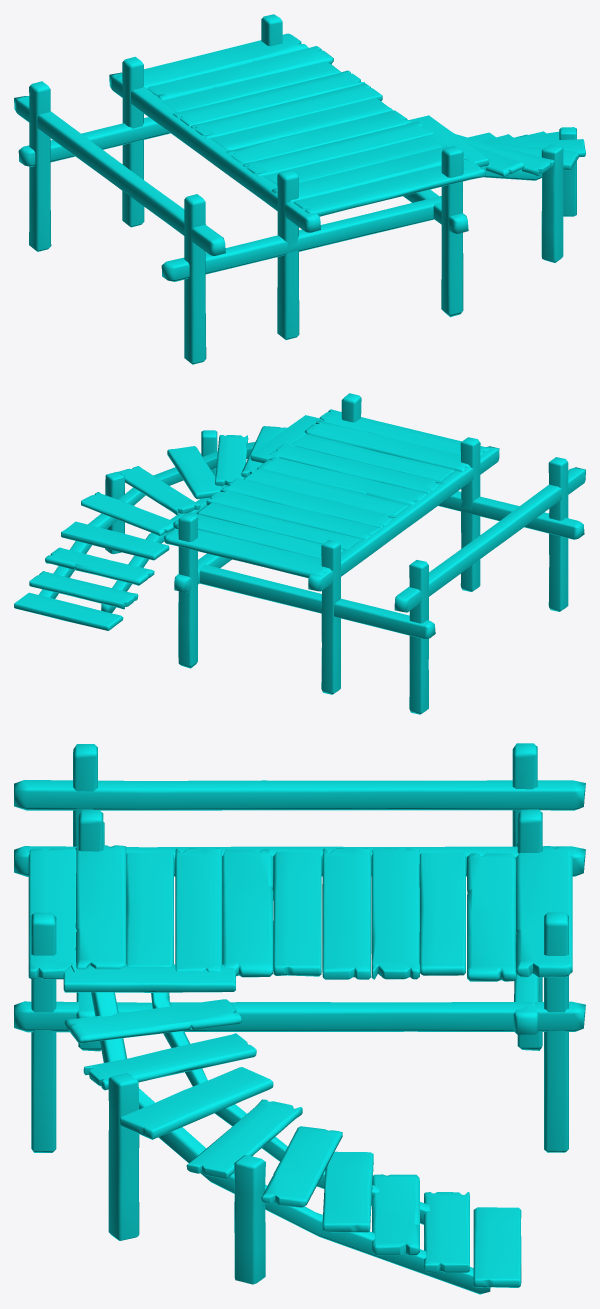
Rendered from Platform.fbx.
3 views of the same model, one above another, from view 1: azimuth 30°, elevation 25°; view 2: azimuth 150°, elevation 25°; view 3: azimuth 270°, elevation 25° (orthographic). The views are drawn at different scales.
Parts seen in each view (by area): view 1: Post_L17, Post_L20, Post_L21, Plank2_L13, Post_L11, Post_L15, Post_L14, Post_L16, Plank2_L16, Plank2_L15, Plank2_L14, Plank1_L15 (+17 smaller); view 2: Post_L18, Post_L20, Post_L21, Plank1_L13, Plank1_L16, Post_L13, Post_L12, Plank2_L15, Plank2_L16, Plank2_L14, Post_L14, Plank1_L14 (+24 smaller); view 3: Post_L20, Post_L19, Plank2_L16, Plank1_L14, Plank2_L15, Plank1_L15, Plank1_L13, Plank1_L16, Plank3_L13, Plank2_L14, Plank3_L14, Post_L23 (+23 smaller).
Boxes of the visible parts, x1,y1,x2,y2 form: Post_L17: [161, 196, 441, 281]; Post_L20: [14, 96, 225, 255]; Post_L21: [109, 72, 320, 232]; Plank2_L13: [293, 158, 485, 216]; Post_L11: [441, 145, 463, 317]; Post_L15: [184, 194, 206, 364]; Post_L14: [29, 81, 51, 251]; Post_L16: [277, 169, 299, 339]; Plank2_L16: [191, 83, 382, 138]; Plank2_L15: [173, 70, 365, 125]; Plank2_L14: [243, 121, 433, 176]; Plank1_L15: [147, 46, 333, 100]; Post_L18: [198, 564, 435, 639]; Post_L20: [394, 467, 585, 612]; Post_L21: [308, 446, 499, 591]; Plank1_L13: [164, 526, 329, 578]; Plank1_L16: [304, 420, 470, 472]; Post_L13: [321, 540, 340, 694]; Post_L12: [178, 513, 198, 668]; Plank2_L15: [206, 489, 380, 539]; Plank2_L16: [223, 478, 396, 527]; Plank2_L14: [270, 443, 443, 493]; Post_L14: [409, 560, 428, 714]; Plank1_L14: [257, 456, 426, 504]; Post_L20: [14, 780, 585, 810]; Post_L19: [14, 1001, 585, 1032]; Plank2_L16: [322, 848, 371, 979]; Plank1_L14: [222, 849, 273, 977]; Plank2_L15: [371, 848, 420, 979]; Plank1_L15: [467, 853, 515, 981]; Plank1_L13: [516, 846, 572, 977]; Plank1_L16: [75, 845, 126, 969]; Plank3_L13: [273, 851, 321, 976]; Plank2_L14: [175, 848, 222, 971]; Plank3_L14: [419, 852, 465, 975]; Post_L23: [91, 992, 490, 1294].
Bounding box in the file's own units: 3.32 × 1.14 × 2.41.
